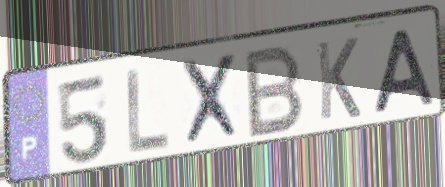5: (55, 71, 112, 168)
A: (370, 26, 439, 117)
B: (244, 41, 307, 142)
K: (314, 34, 364, 123)
L: (124, 66, 172, 156)
X: (177, 50, 245, 150)
